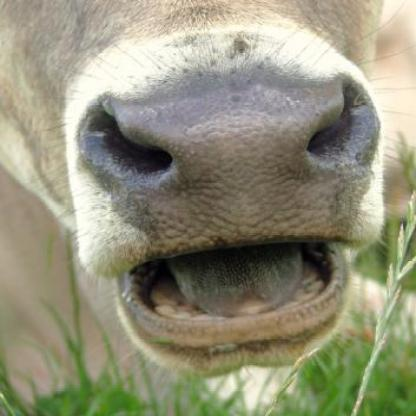lower: (223, 342, 268, 369)
mouth: (65, 61, 383, 378)
upper: (204, 128, 272, 185)
